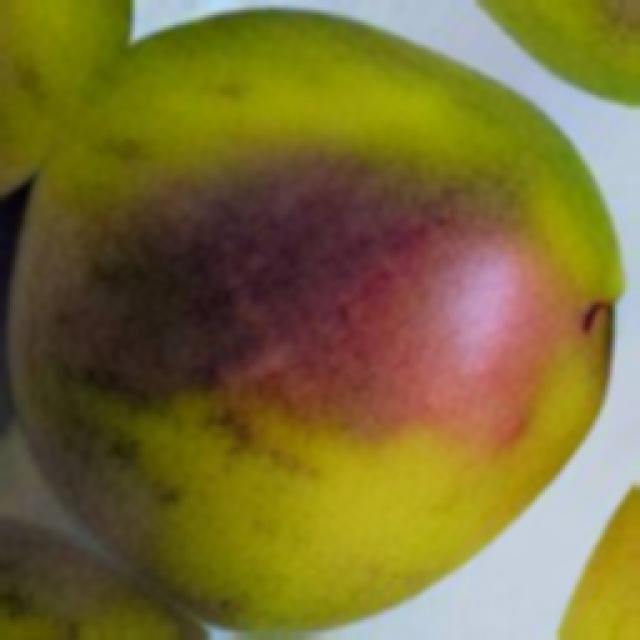defective: (0, 0, 630, 638)
